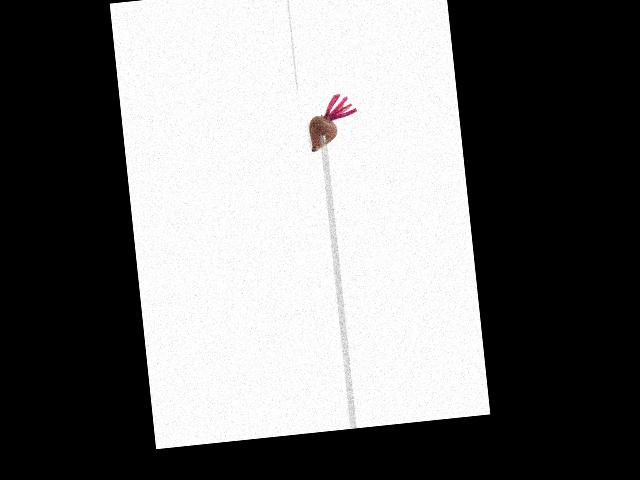beet: (305, 92, 360, 152)
